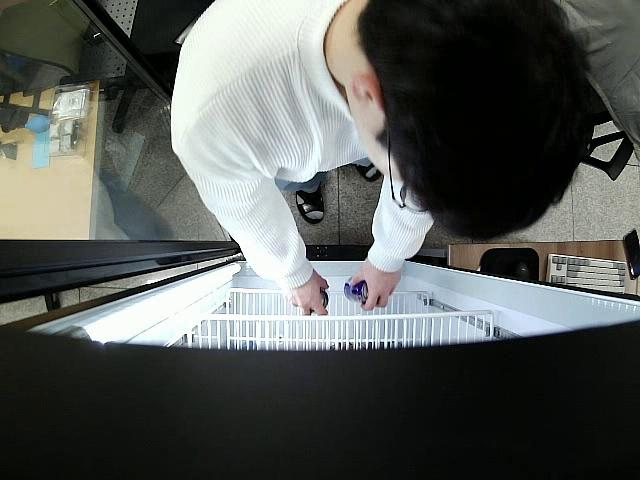00_hand: (349, 260, 401, 310), (286, 271, 329, 317)
14_welchsGrape: (343, 277, 370, 305), (307, 287, 330, 315)
